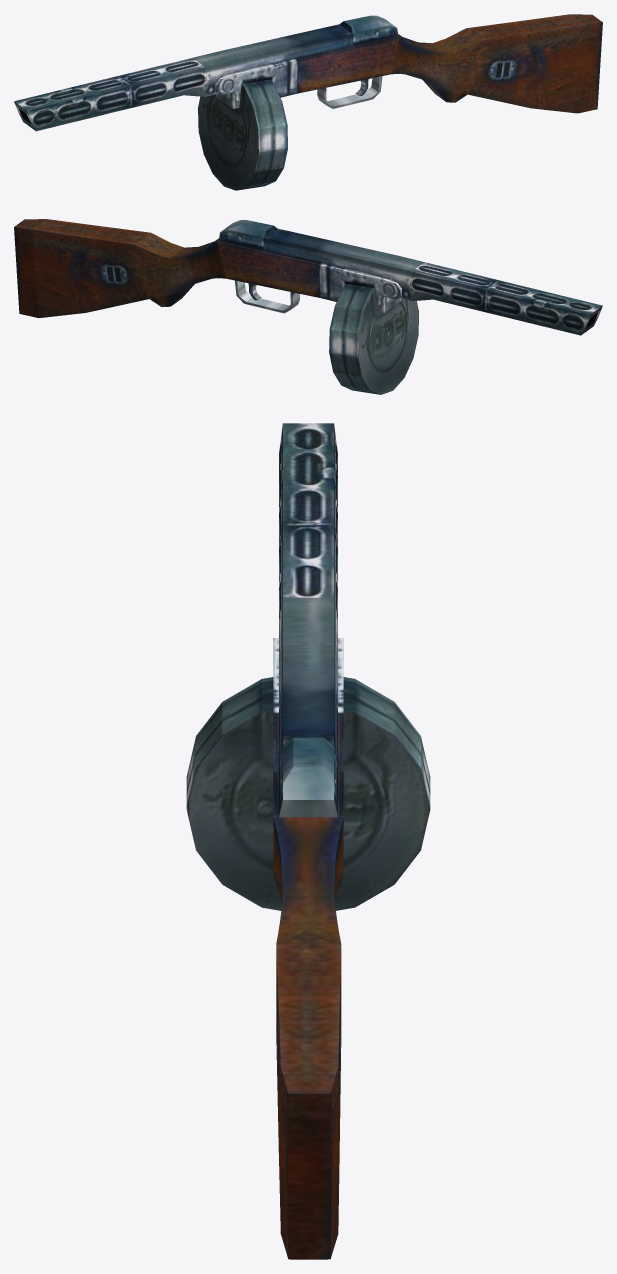
The model's file is ppsh.obj.
3 renders of one model, top to bottom at view 1: azimuth 30°, elevation 25°; view 2: azimuth 150°, elevation 25°; view 3: azimuth 270°, elevation 25°, orthographic. The views are drawn at different scales.
Parts seen in each view (by area): view 1: mesh01, mesh02, mesh05; view 2: mesh01, mesh02, mesh05; view 3: mesh01, mesh02.
Part boxes in pixels (left/top/right/bottom): mesh01: left=14, top=14, right=602, bottom=131; mesh02: left=198, top=79, right=287, bottom=190; mesh05: left=317, top=76, right=382, bottom=108; mesh01: left=14, top=219, right=602, bottom=335; mesh02: left=329, top=283, right=418, bottom=394; mesh05: left=235, top=280, right=299, bottom=313; mesh01: left=273, top=423, right=343, bottom=1259; mesh02: left=186, top=677, right=430, bottom=910.
Bounding box in the file's own units: 98.52 × 23.05 × 18.
1 material, 1 textured.
